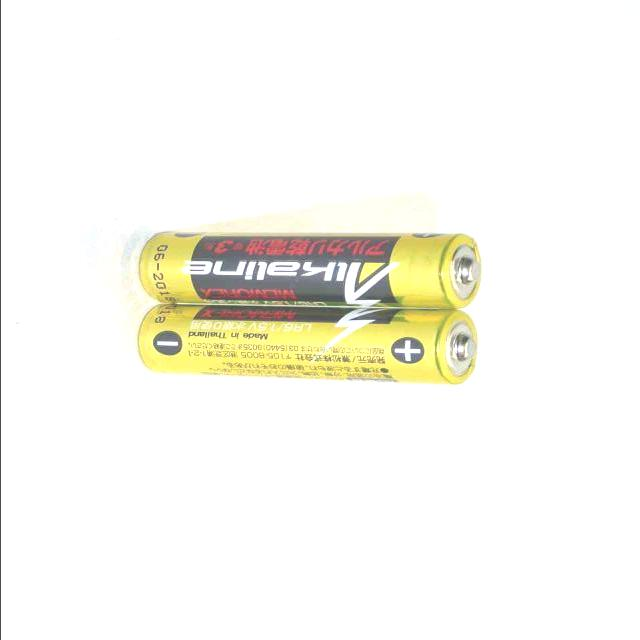AAA: (134, 231, 492, 312), (132, 304, 480, 387)
